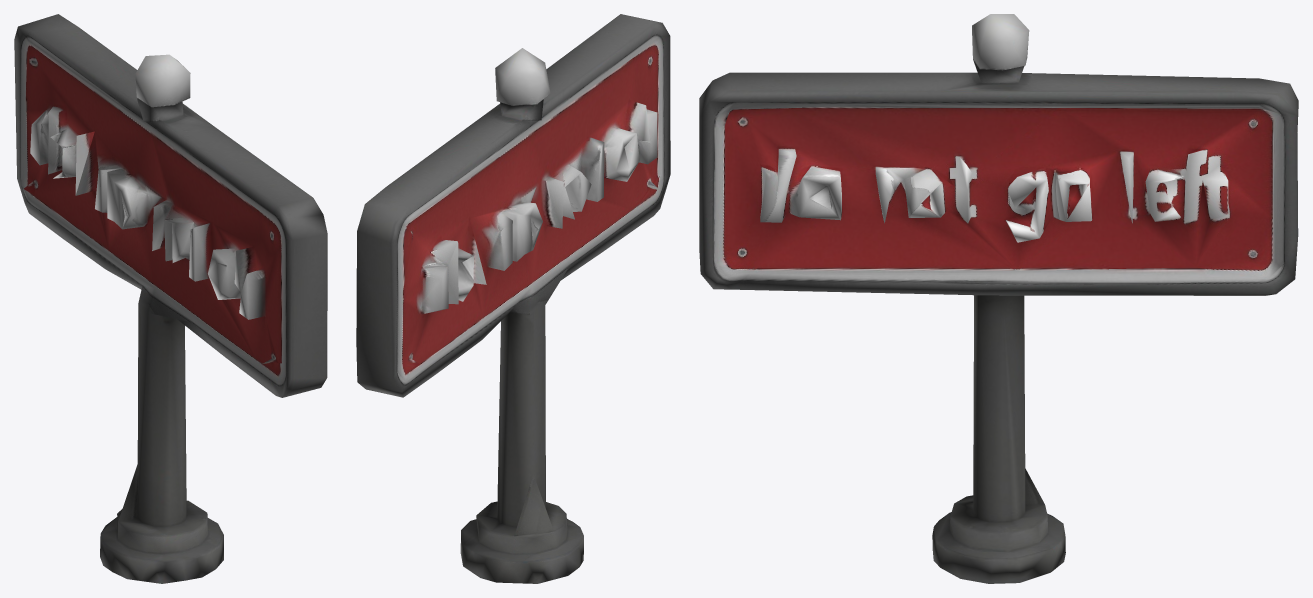
The model's file is road.glb.
3 renders of one model, left to right at view 1: azimuth 30°, elevation 25°; view 2: azimuth 150°, elevation 25°; view 3: azimuth 270°, elevation 25°, orthographic. The views are drawn at different scales.
Parts seen in each view (by area): view 1: tripo_node_fb5b5237-3b1b-4a56-a76c-d9db8b1d507d; view 2: tripo_node_fb5b5237-3b1b-4a56-a76c-d9db8b1d507d; view 3: tripo_node_fb5b5237-3b1b-4a56-a76c-d9db8b1d507d.
Boxes of the visible parts, x1=… form: tripo_node_fb5b5237-3b1b-4a56-a76c-d9db8b1d507d: x1=14, y1=14, x2=327, y2=583; tripo_node_fb5b5237-3b1b-4a56-a76c-d9db8b1d507d: x1=356, y1=14, x2=670, y2=583; tripo_node_fb5b5237-3b1b-4a56-a76c-d9db8b1d507d: x1=699, y1=14, x2=1298, y2=583.
Bounding box in the file's own units: 0.2219 × 1 × 0.9994.
1 material, 1 textured.
